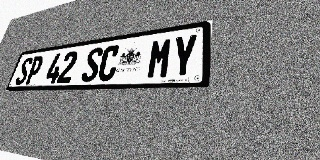2: (56, 50, 79, 83)
4: (44, 52, 66, 84)
C: (96, 44, 121, 81)
M: (146, 37, 173, 79)
P: (24, 55, 45, 85)
S: (80, 47, 104, 82), (14, 57, 34, 85)
Y: (169, 33, 198, 78)
